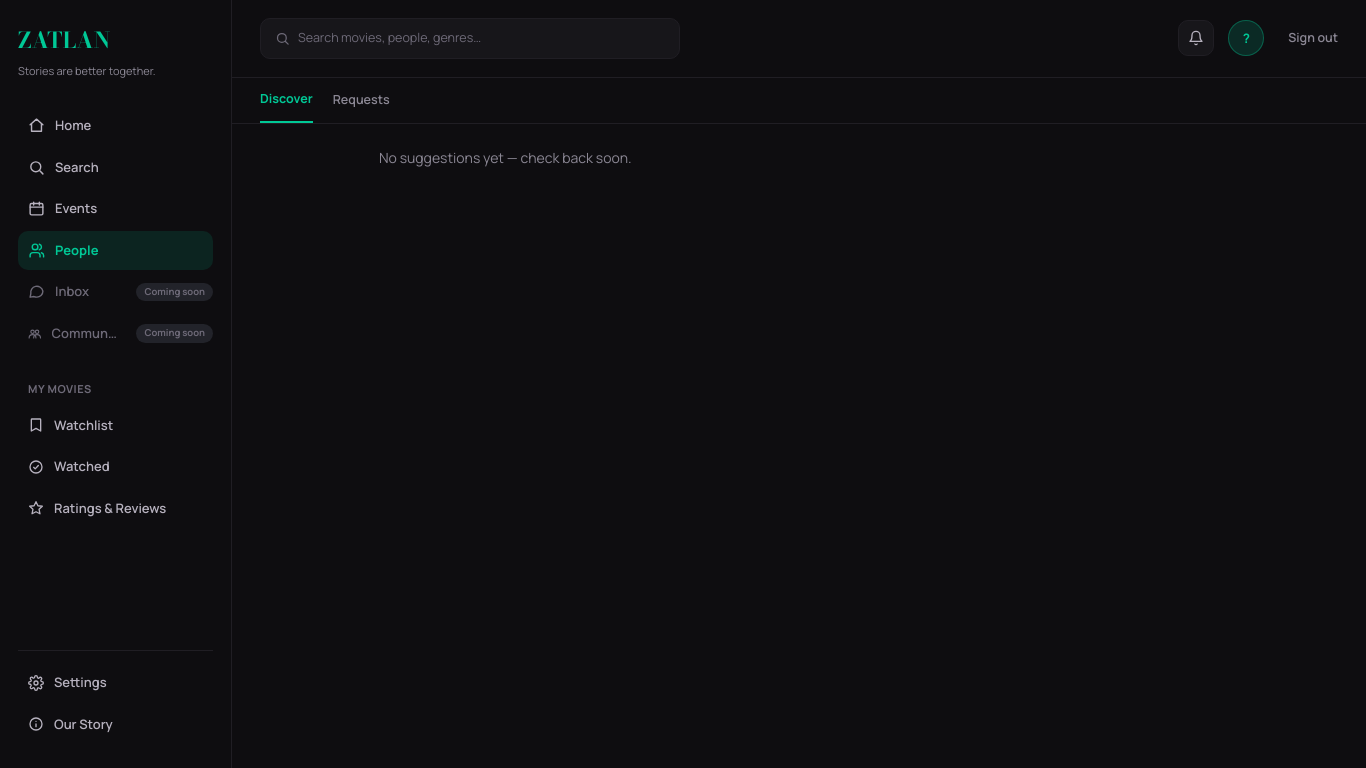
Test case: PeopleDiscovery › Requests tab › fetches and shows each pending requester, with Approve/Deny
Click the button "Requests" at (361, 106), box [333, 90, 390, 123]
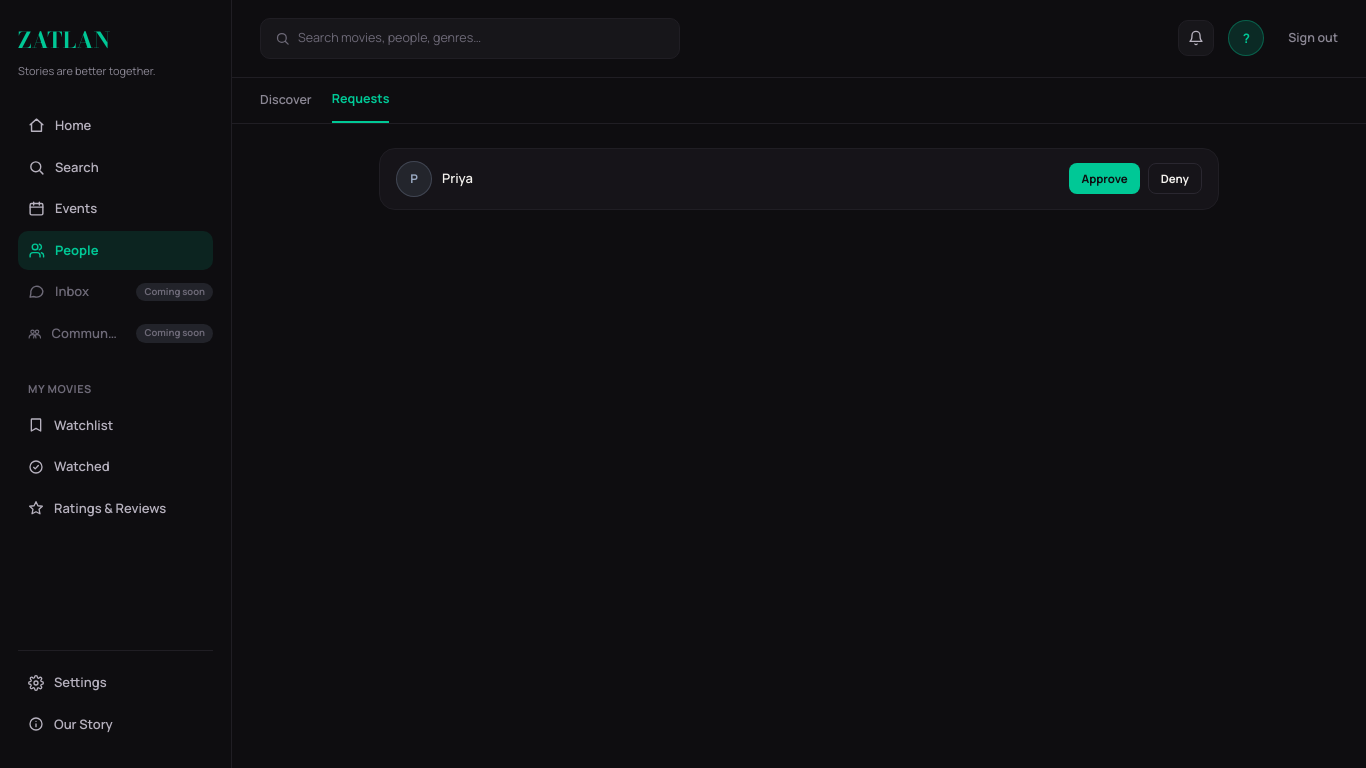
Check: the text "Priya" is shown, box [442, 169, 473, 188]
Check: the button "Approve" is shown, box [1070, 163, 1140, 194]
Check: the button "Deny" is shown, box [1148, 163, 1202, 194]
